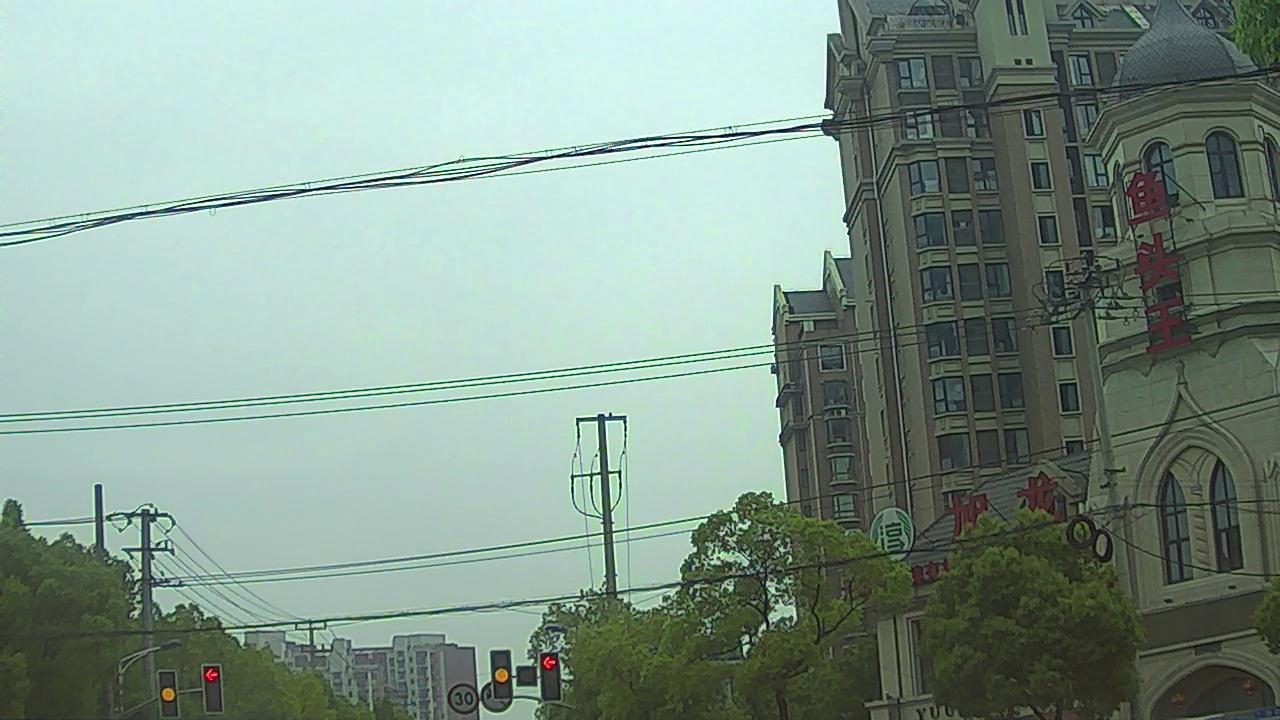traffic_light: (490, 651, 513, 699), (159, 673, 180, 720), (540, 652, 560, 701), (203, 667, 224, 713)
